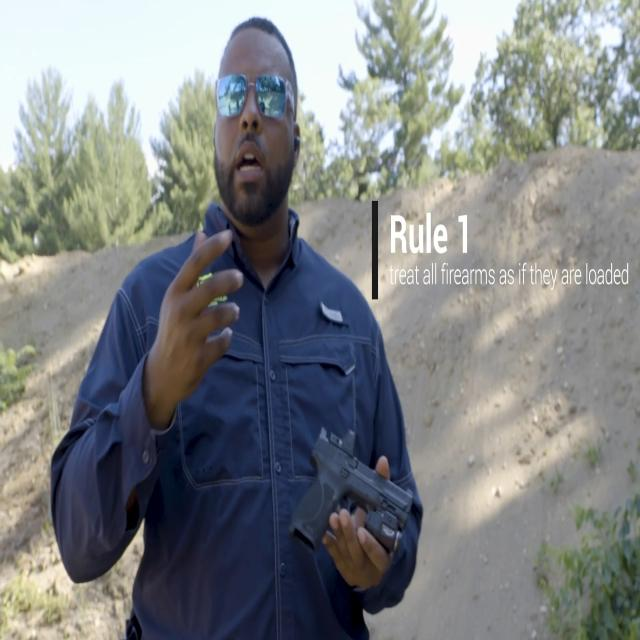Gun_Holder: (283, 390, 417, 582)
Person: (54, 0, 432, 640)
